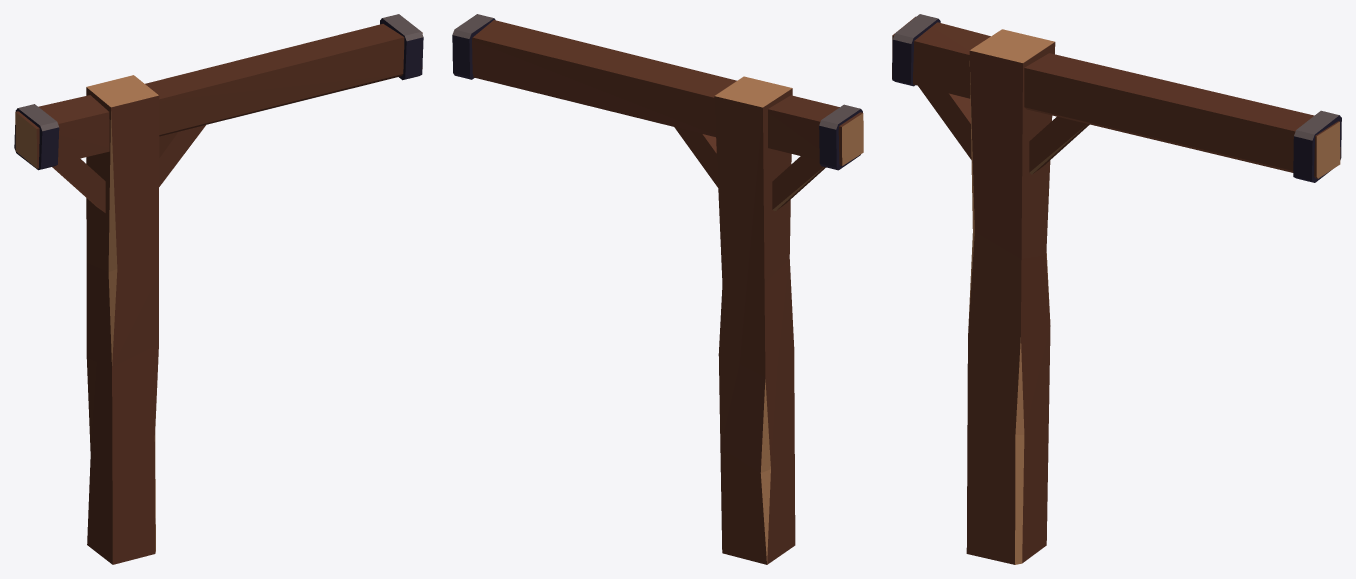
The model's file is MCastle_InteriorSupports_05.FBX.
3 views of the same model, side by side, from view 1: azimuth 30°, elevation 25°; view 2: azimuth 150°, elevation 25°; view 3: azimuth 330°, elevation 25° (orthographic). The views are drawn at different scales.
Parts seen in each view (by area): view 1: MCastle_InteriorSupports_05_LOD0; view 2: MCastle_InteriorSupports_05_LOD0; view 3: MCastle_InteriorSupports_05_LOD0.
Boxes of the visible parts, box(x1,y1,x2,y2) form: MCastle_InteriorSupports_05_LOD0: box(14, 14, 423, 564); MCastle_InteriorSupports_05_LOD0: box(452, 14, 863, 564); MCastle_InteriorSupports_05_LOD0: box(892, 14, 1341, 564).
Size of what is drawn, in the model's own units: 156 by 176 by 20.79.
